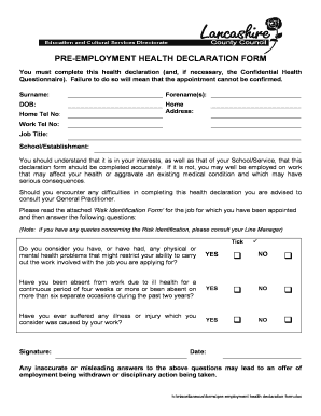checkbox: (232, 283, 244, 295), (282, 283, 294, 295), (232, 250, 244, 261), (283, 250, 295, 261), (282, 314, 294, 325), (232, 314, 245, 324)
textline: (66, 133, 304, 142), (92, 144, 306, 154), (53, 348, 189, 362), (219, 348, 305, 362), (66, 88, 165, 100), (66, 100, 165, 111), (208, 99, 306, 110), (208, 89, 306, 99), (208, 110, 305, 120), (67, 121, 165, 130), (66, 112, 164, 120), (208, 122, 304, 130)
